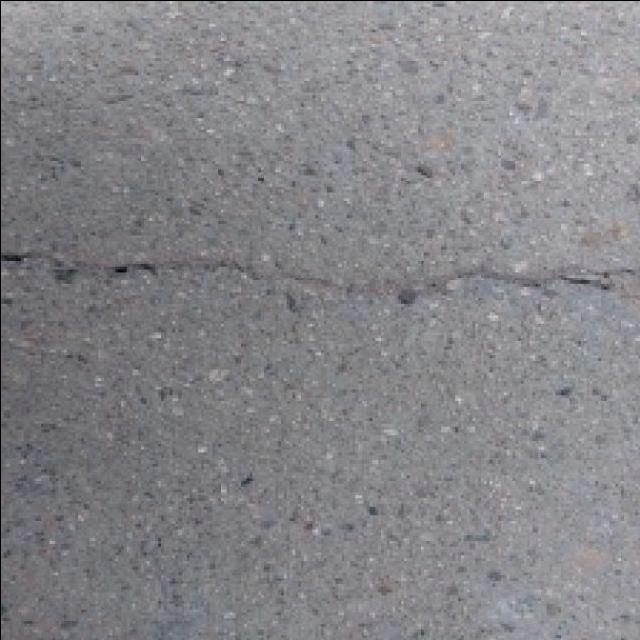SurfaceCrack: (8, 214, 640, 330)
